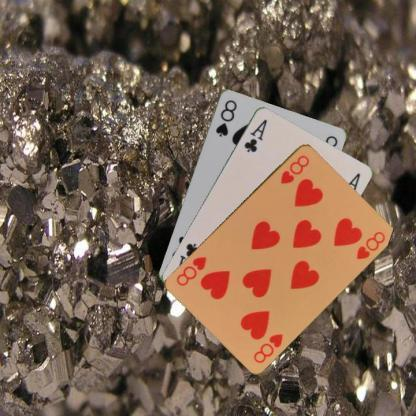8h: (250, 330, 284, 364), (277, 152, 311, 185)
8s: (213, 96, 238, 138)
Ac: (241, 116, 268, 154)
